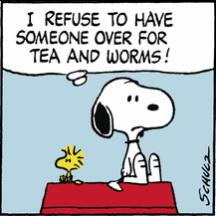snoopy: (90, 76, 176, 192)
